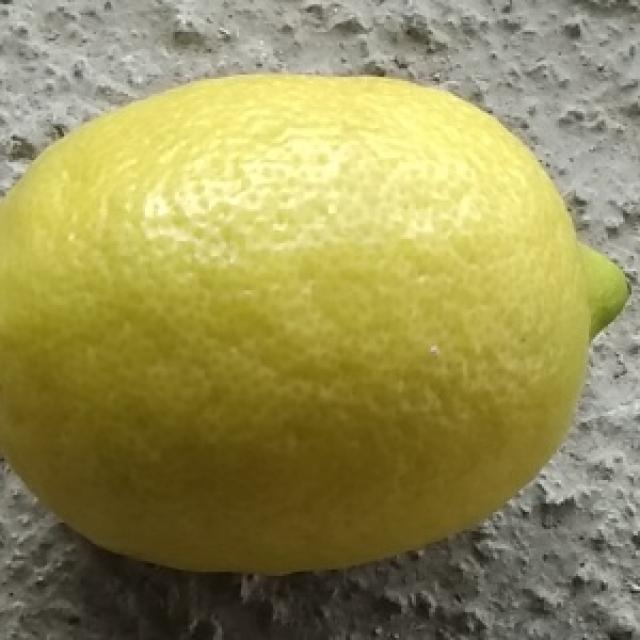Lemon: (0, 68, 631, 580)
